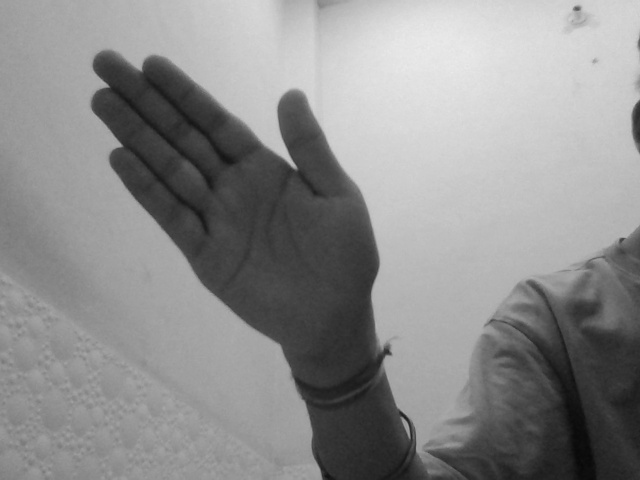Hello: (85, 42, 383, 377)
